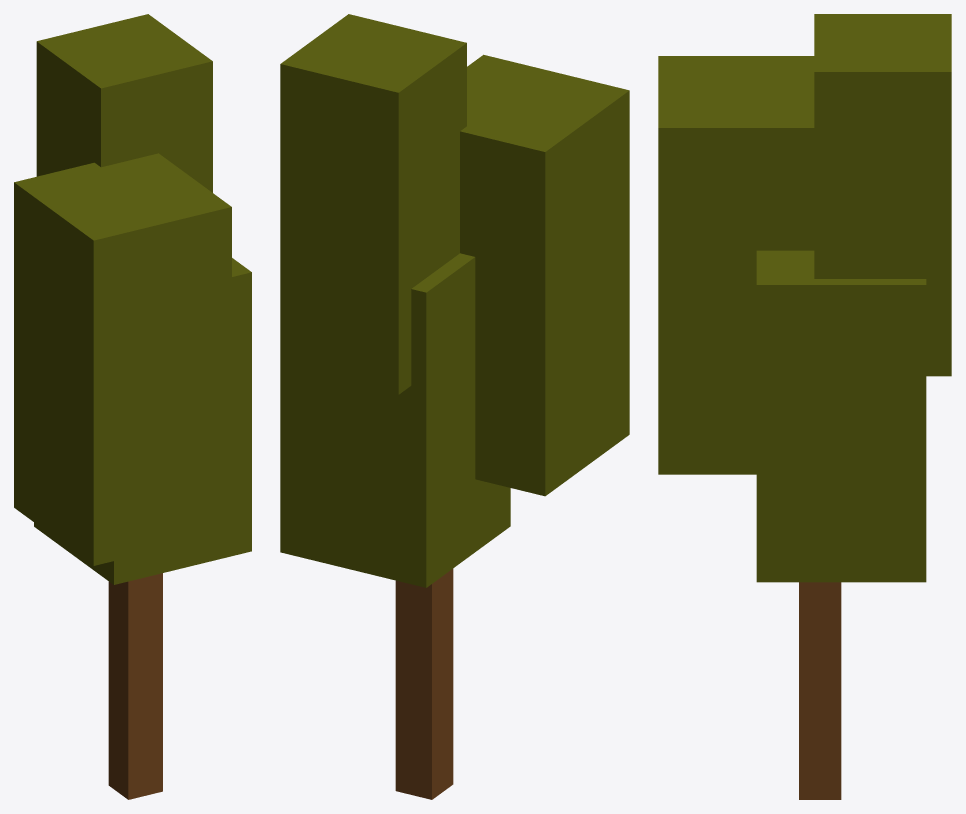
Rendered from HightWood4.fbx.
The picture shows the model from 3 angles, left to right: view 1: azimuth 30°, elevation 25°; view 2: azimuth 150°, elevation 25°; view 3: azimuth 270°, elevation 25°; orthographic projection. The views are drawn at different scales.
Parts seen in each view (by area): view 1: Cube.013; view 2: Cube.013; view 3: Cube.013.
Part boxes in pixels (bbox=[...]): Cube.013: bbox=[14, 14, 251, 799]; Cube.013: bbox=[280, 14, 629, 799]; Cube.013: bbox=[658, 14, 951, 799].
Bounding box in the file's own units: 3138 × 10435 × 3664.
